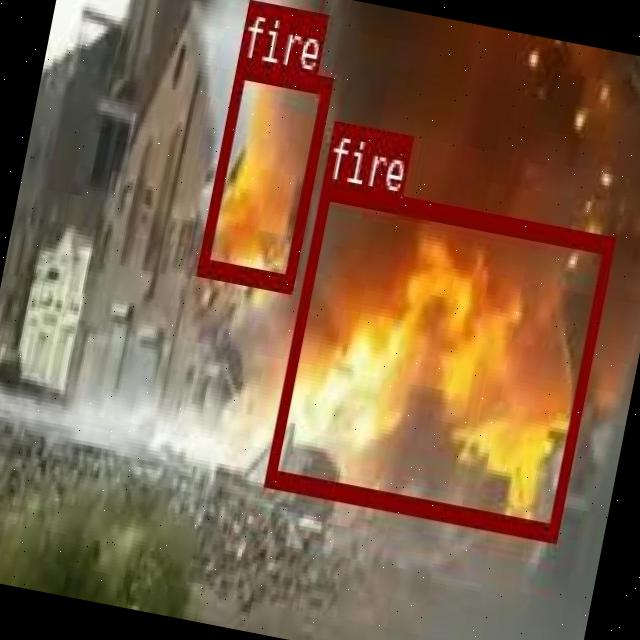fire: (262, 179, 614, 537), (196, 57, 331, 290)
